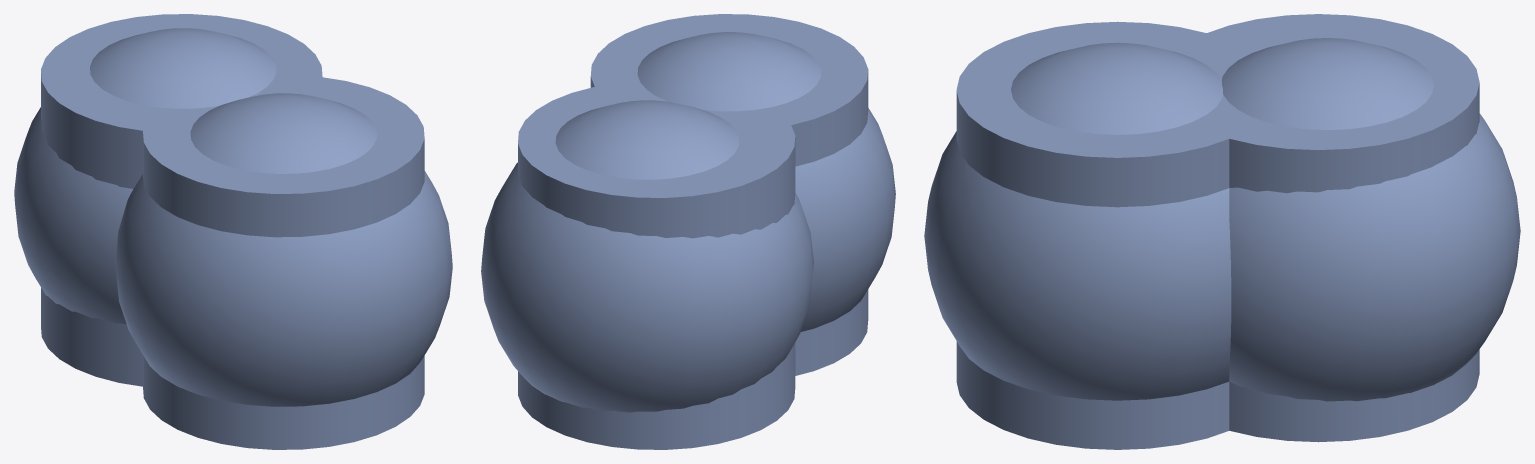
3 renders of one model, left to right at view 1: azimuth 30°, elevation 25°; view 2: azimuth 150°, elevation 25°; view 3: azimuth 270°, elevation 25°, orthographic. The views are drawn at different scales.
Size of the model in its own units: 1.24 by 1.2 by 1.85.
